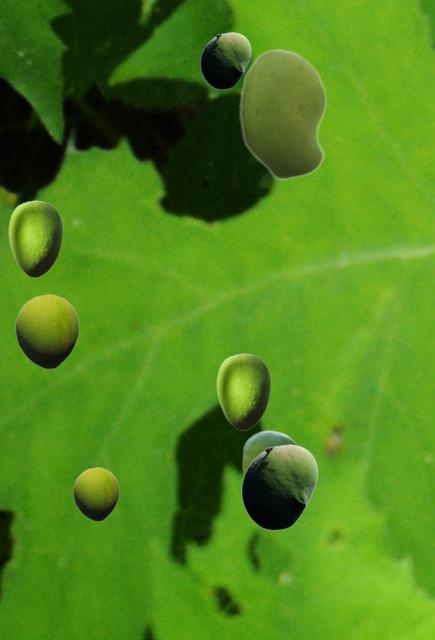green_mango: (239, 48, 326, 180), (241, 444, 317, 529), (15, 294, 78, 368), (8, 200, 62, 276), (216, 353, 270, 429), (200, 32, 250, 88), (242, 430, 298, 475), (73, 467, 118, 520)
